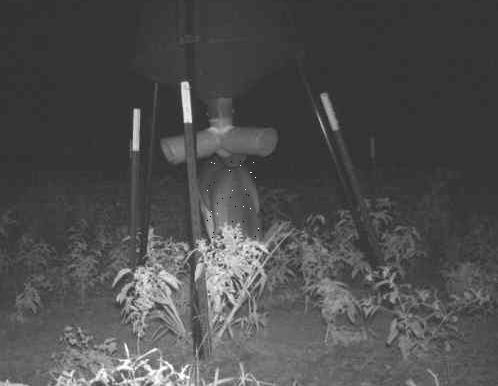Deer: (206, 161, 262, 238)
